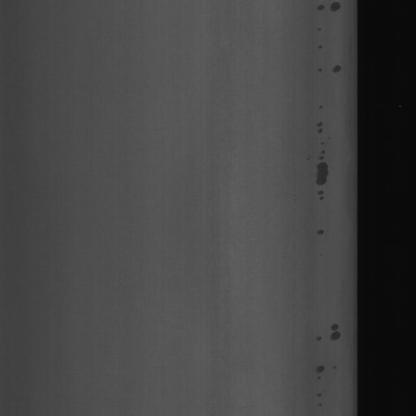oil_spot: (313, 111, 330, 248), (314, 31, 326, 101), (314, 344, 328, 390), (315, 0, 343, 21), (326, 324, 344, 344), (332, 58, 345, 80)
